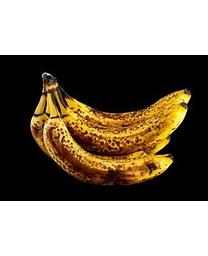banana: (29, 72, 190, 185)
